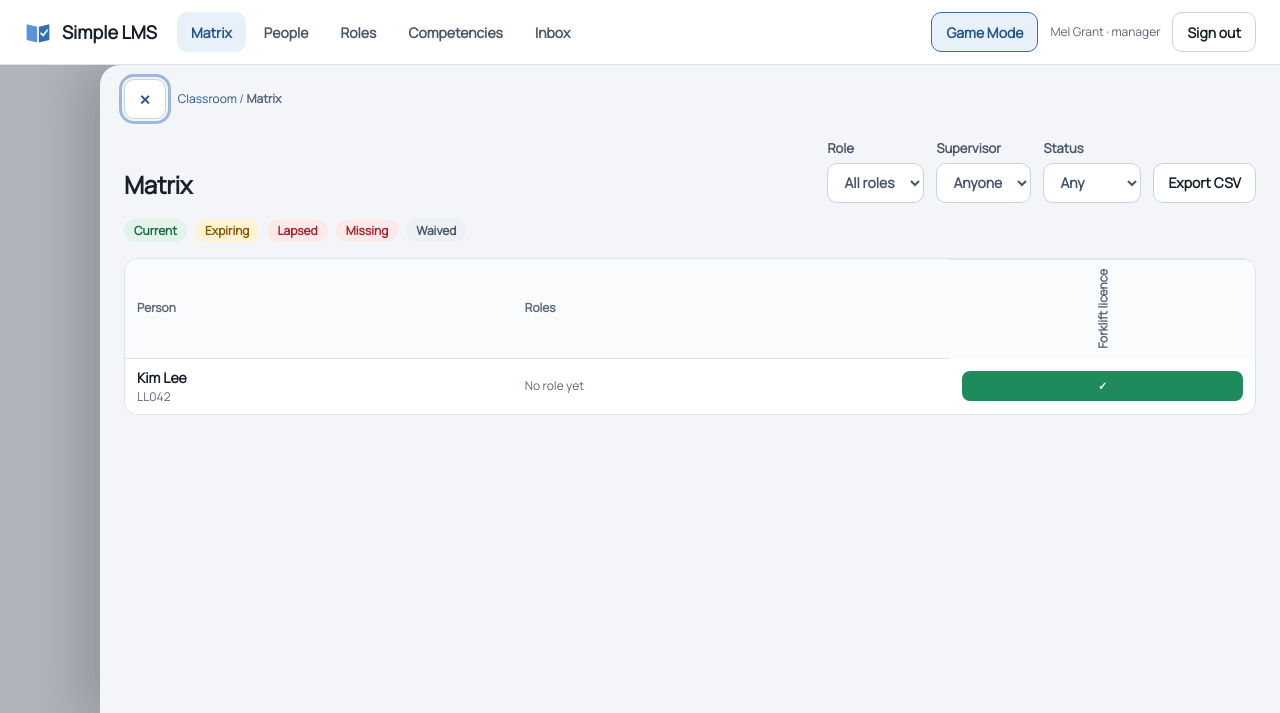
Test: printing › says so when printing isn't set up
Click the button named "Kim Lee, Forklift licence" at (1102, 386), box [962,371,1243,401]
(page scrolled)
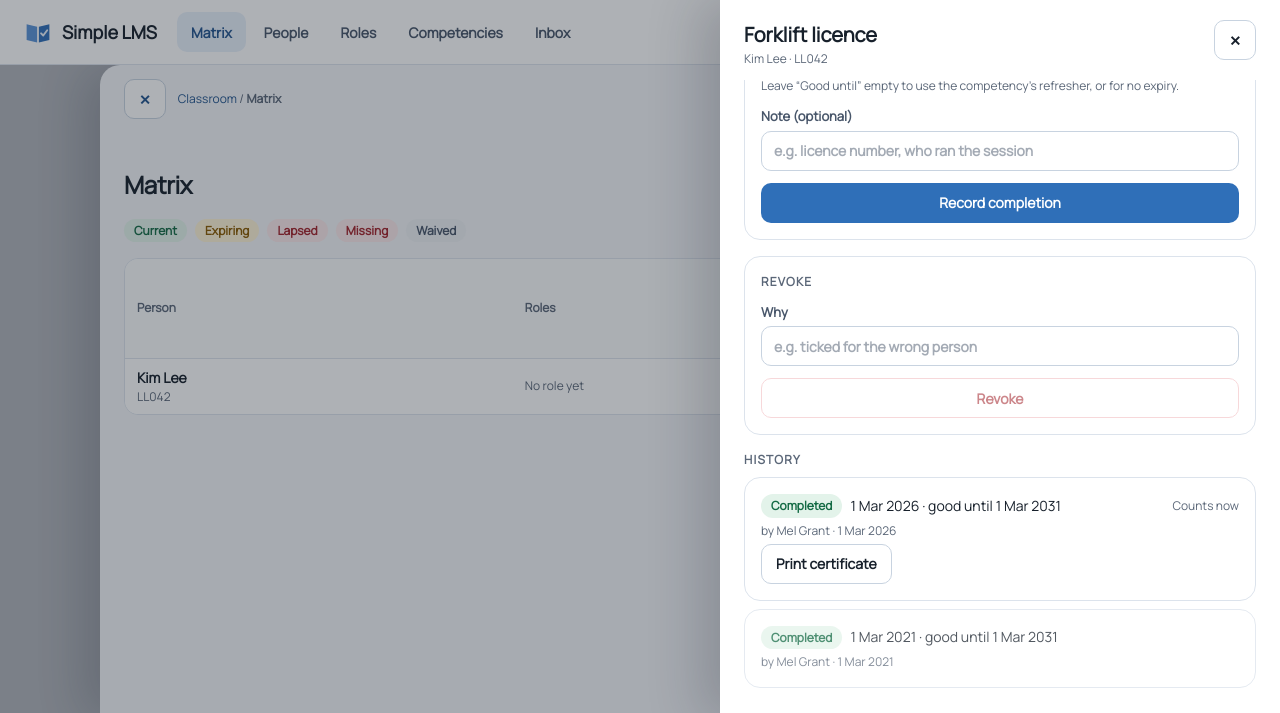
Click the button "Print certificate" at (826, 564), box [761,544,892,584]
(page scrolled)
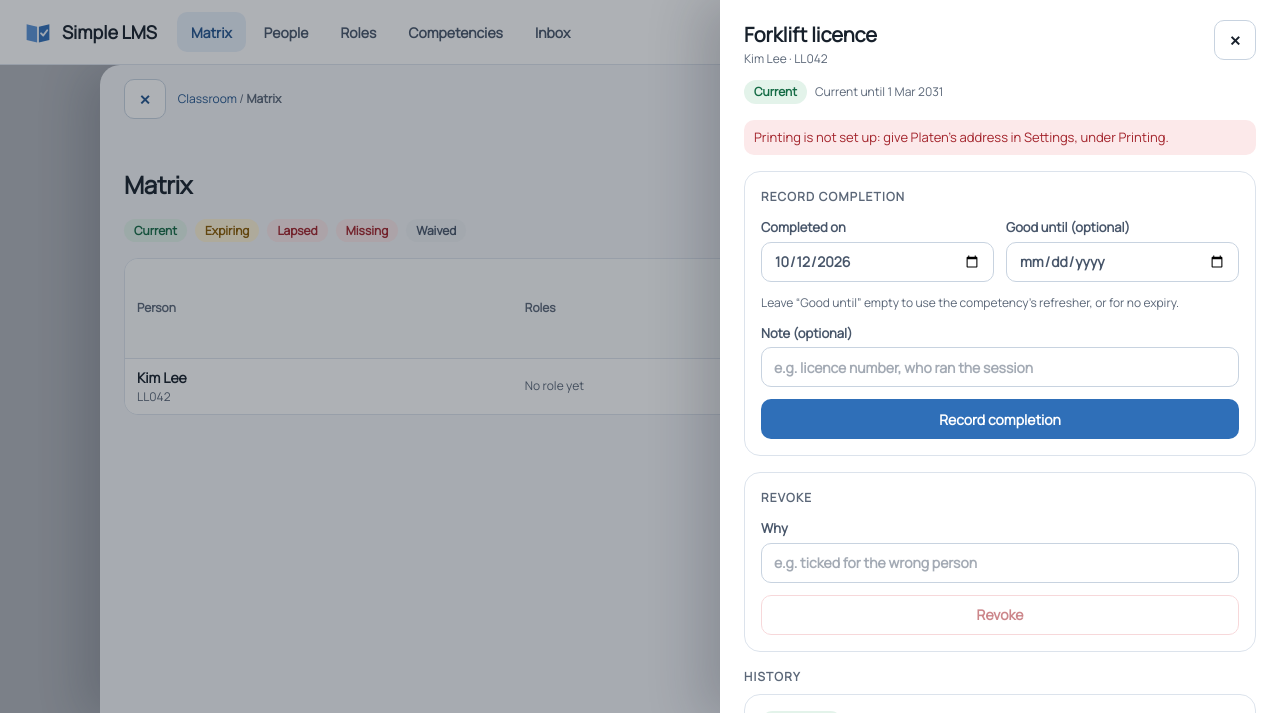
Now the message shows "Printing is not set up", box [754,128,1169,146]
